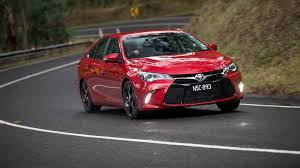Toyota: (81, 32, 241, 104)
